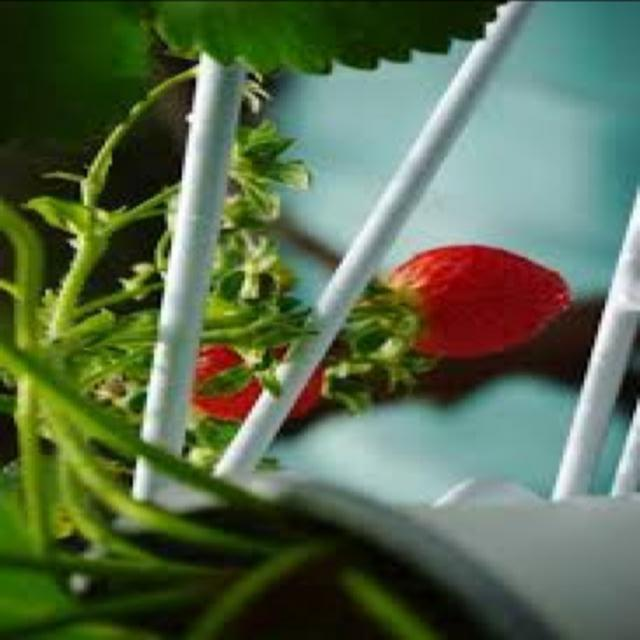ripe: (388, 244, 572, 358)
